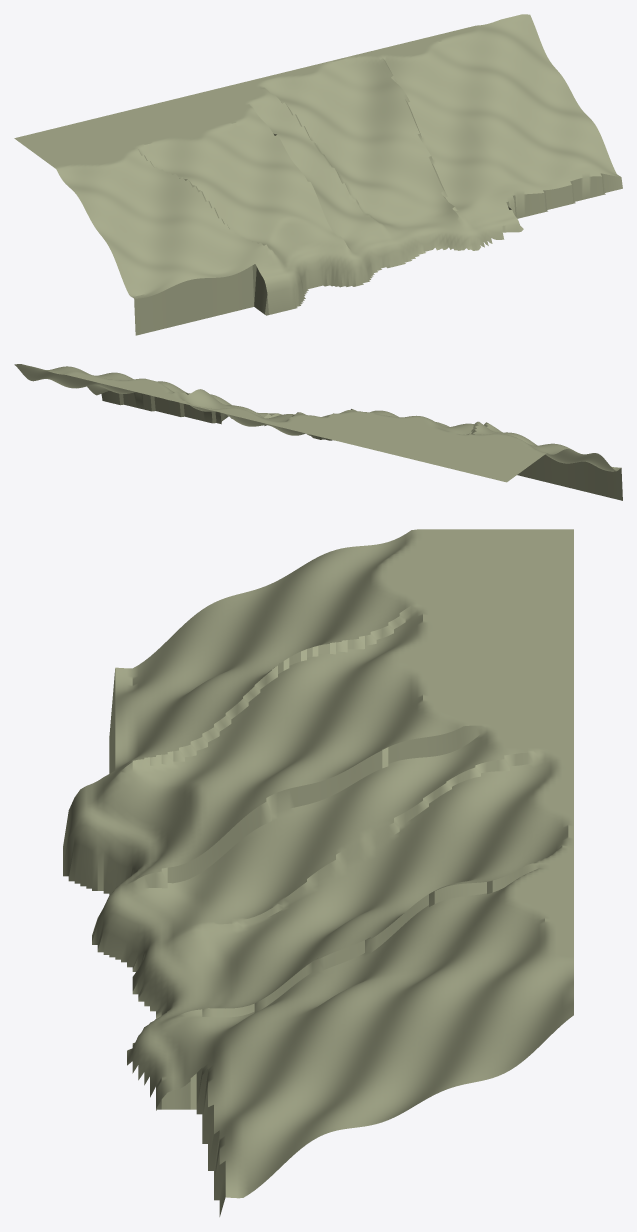
The model's file is backdrop.glb.
The picture shows the model from 3 angles, top to bottom: view 1: azimuth 30°, elevation 25°; view 2: azimuth 150°, elevation 25°; view 3: azimuth 270°, elevation 25°; orthographic projection. The views are drawn at different scales.
Parts seen in each view (by area): view 1: Mountains; view 2: Mountains; view 3: Mountains.
Part boxes in pixels (<box>): Mountains: <box>14,14,622,335</box>; Mountains: <box>14,364,622,500</box>; Mountains: <box>63,529,573,1216</box>.
Bounding box in the file's own units: 2352 × 491 × 1056.
